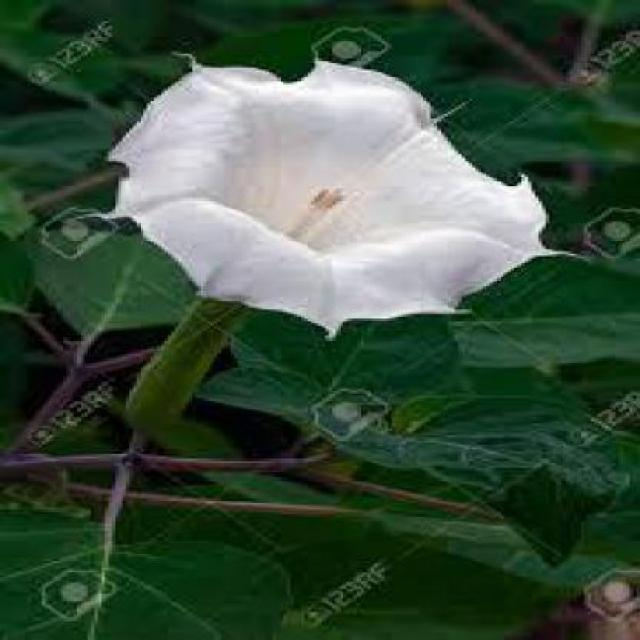flower: (120, 41, 554, 322)
